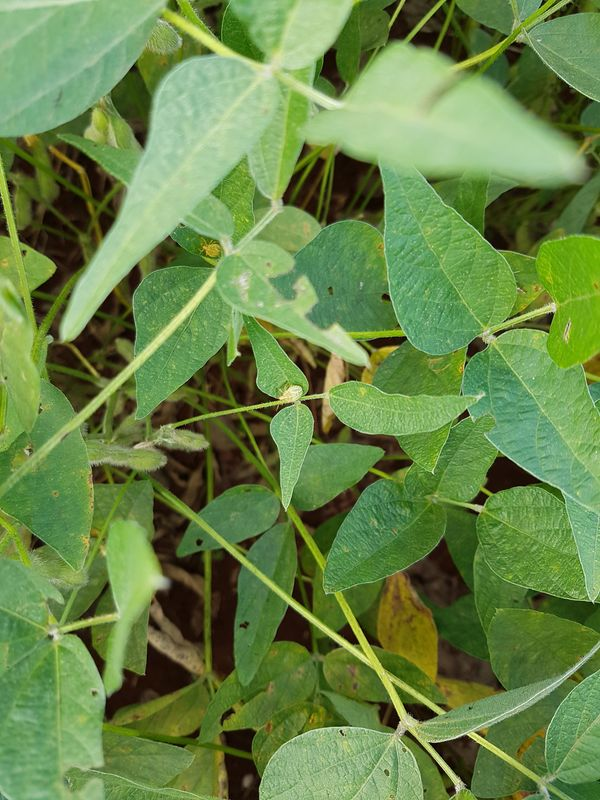Euschistus_heros_ninfa: (275, 378, 306, 411), (194, 235, 226, 264)
